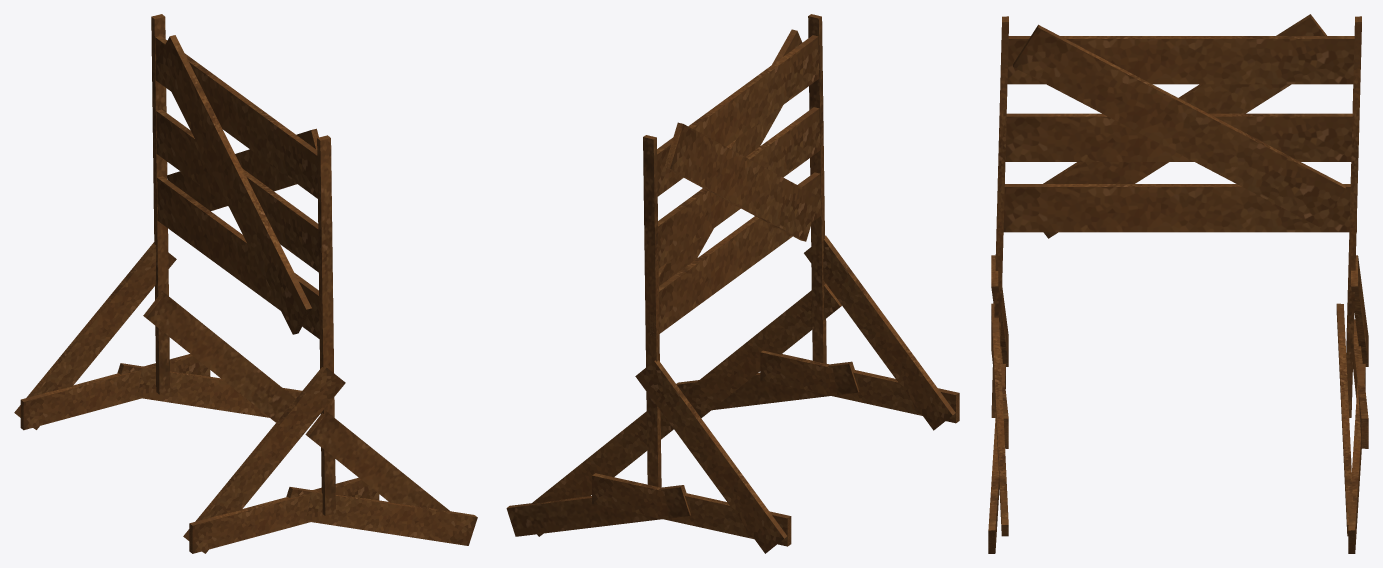
Rendered from SM_BarrierLow.fbx.
The picture shows the model from 3 angles, left to right: view 1: azimuth 30°, elevation 25°; view 2: azimuth 150°, elevation 25°; view 3: azimuth 270°, elevation 25°; orthographic projection. The views are drawn at different scales.
Visible parts, largest first — view 1: SM_BarrierLow1; view 2: SM_BarrierLow1; view 3: SM_BarrierLow1.
Boxes of the visible parts, left/top/right/bottom form: SM_BarrierLow1: left=14, top=14, right=477, bottom=553; SM_BarrierLow1: left=506, top=14, right=959, bottom=553; SM_BarrierLow1: left=988, top=14, right=1368, bottom=553.
Bounding box in the file's own units: 304 × 444 × 329.
